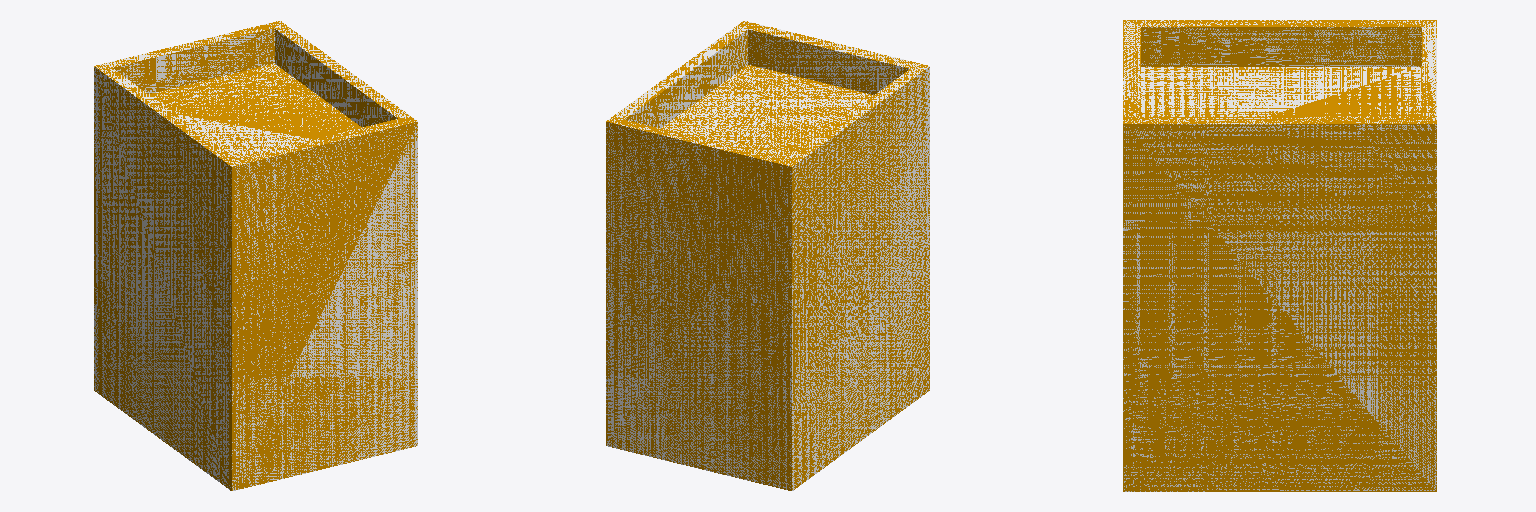
URDF robot description (my_object):
<?xml version="1.0" ?> 
<robot name="my_object" static="true">
  <link name="base_link">
  <inertial>
    <mass value="0.100" />
    <origin xyz="0 0 0.0" />
    <inertia ixx="1.0" ixy="0.0" ixz="0.0" iyy="1.0" iyz="0.0" izz="1.0"/>
  </inertial>
  <visual>
   <origin xyz="0 0 0.0" rpy="0 0 0" />
   <geometry>
     <mesh filename="package://ensta_gazebo_objects/Media/models/corrogated_box.dae" scale="1.5 1.5 2.0"/>
     
   </geometry>
  </visual>
  <collision>
   <origin xyz="0 0 0.0" rpy="0 0 0" />
   <geometry>
     <mesh filename="package://ensta_gazebo_objects/Media/models/corrogated_box.dae" scale="1.5 1.5 2.0"/>>
     
   </geometry>
  </collision>     
  </link>


<gazebo>
	<static>false</static>
</gazebo>
</robot>

--- Render facts (derived) ---
3 views of the same robot in one strip: view 1: azimuth 30°, elevation 25°; view 2: azimuth 150°, elevation 25°; view 3: azimuth 270°, elevation 25° (orthographic).
Model my_object with 1 links and 0 joints (none), rooted at base_link, posed all joints at 0.
Visible links, largest first — view 1: base_link; view 2: base_link; view 3: base_link.
Boxes of the visible links, box(x1,y1,x2,y2) form: base_link: box(94, 21, 417, 490); base_link: box(606, 21, 929, 490); base_link: box(1123, 20, 1436, 491).
Bounding box of the posed robot: 0.4204 × 0.5393 × 0.6991 m (x, y, z).
1 mesh visuals loaded from 1 distinct referenced files (1 Collada DAE).